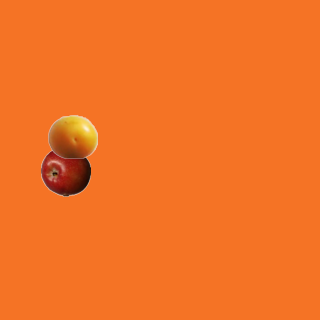Apple Braeburn: (40, 146, 90, 196)
Cherry Wax Yellow: (47, 111, 97, 161)
